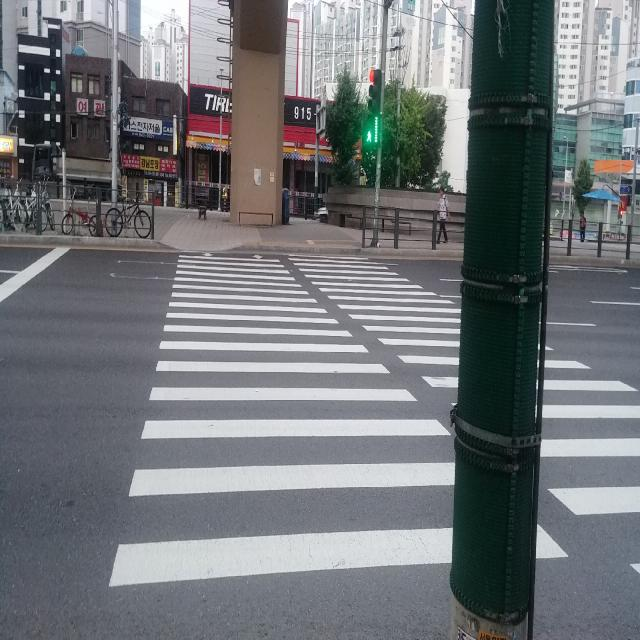초록불: (363, 116, 380, 148)
횡단보도: (107, 251, 640, 591)
